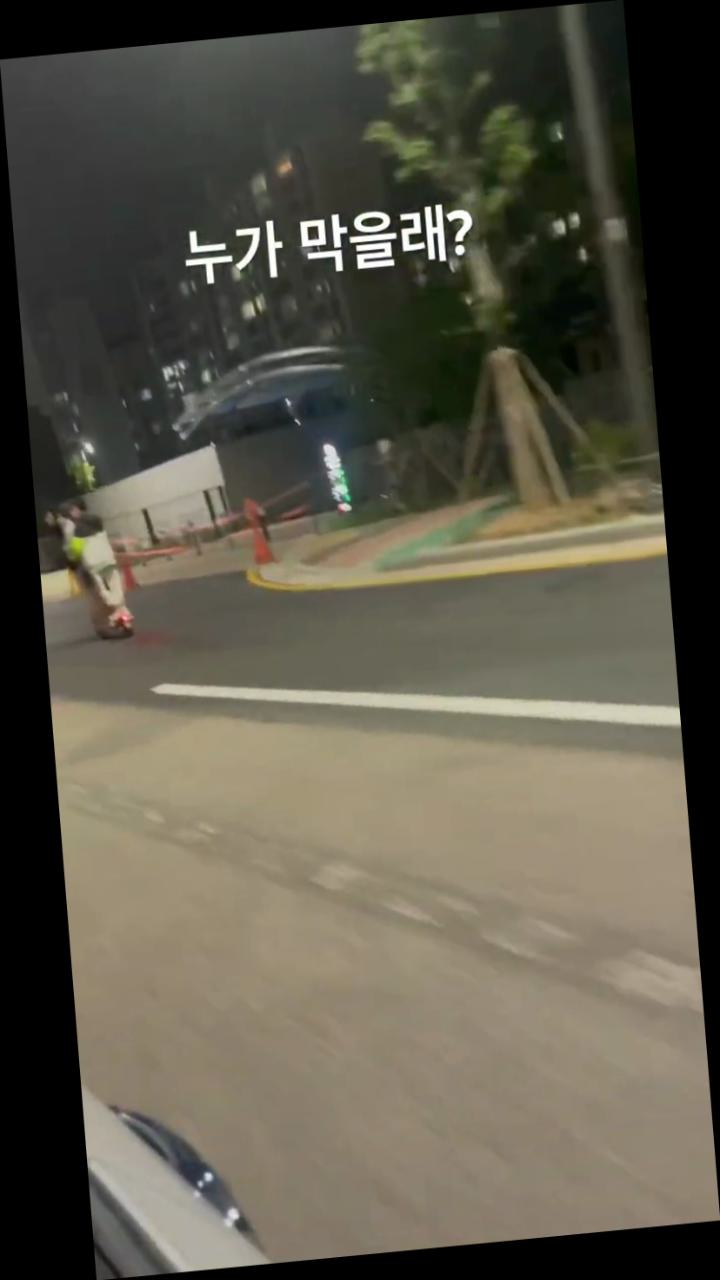multiple: (42, 488, 139, 644)
